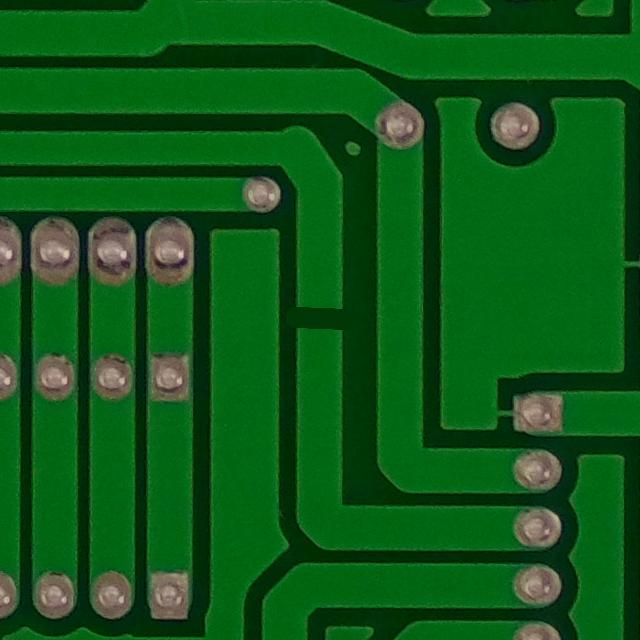open_circuit: (282, 288, 358, 353)
